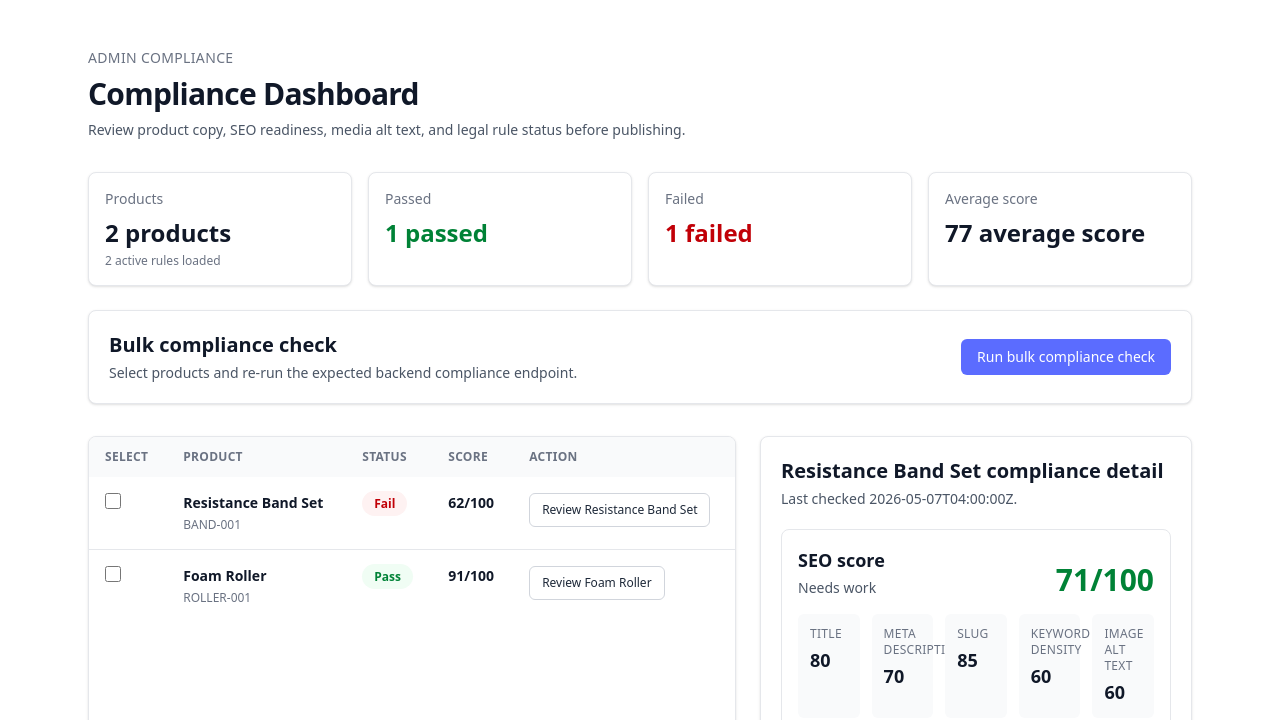
Test: ComplianceDashboard › requires at least one selected product before bulk checking
The image size is (1280, 720).
Step 1. Click the button "Run bulk compliance check" → click(1066, 357), box x1=961 y1=339 x2=1171 y2=375
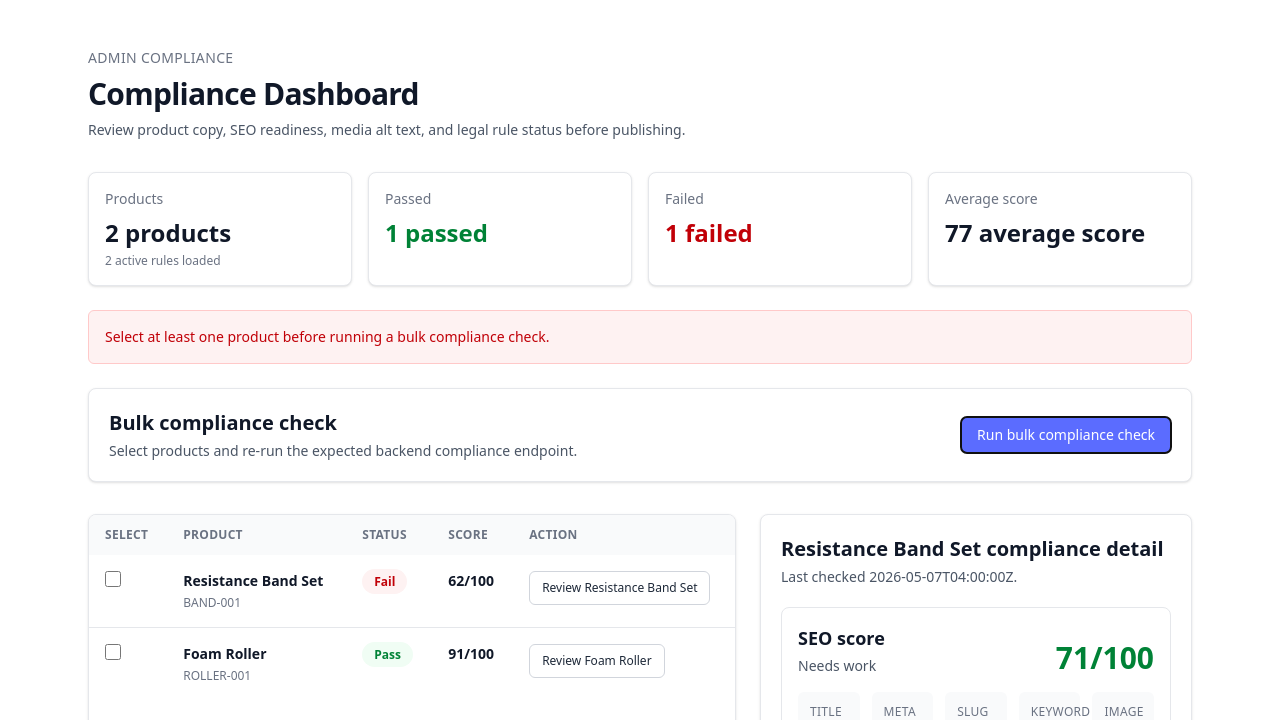
Result: the message shows "Select at least one product" at x1=105 y1=327 x2=549 y2=346
